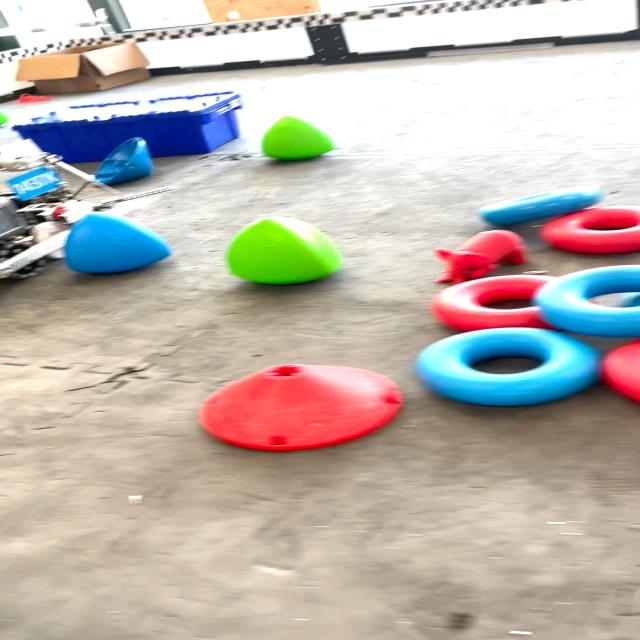Blue-Ring: (416, 328, 600, 406), (536, 265, 640, 338), (478, 185, 604, 225)
Red-Ring: (431, 275, 553, 331), (540, 206, 640, 254)
